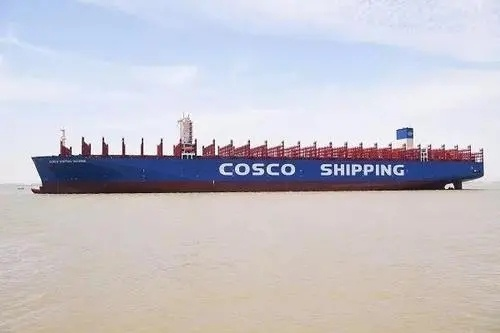Cargoship: (18, 113, 491, 196)
